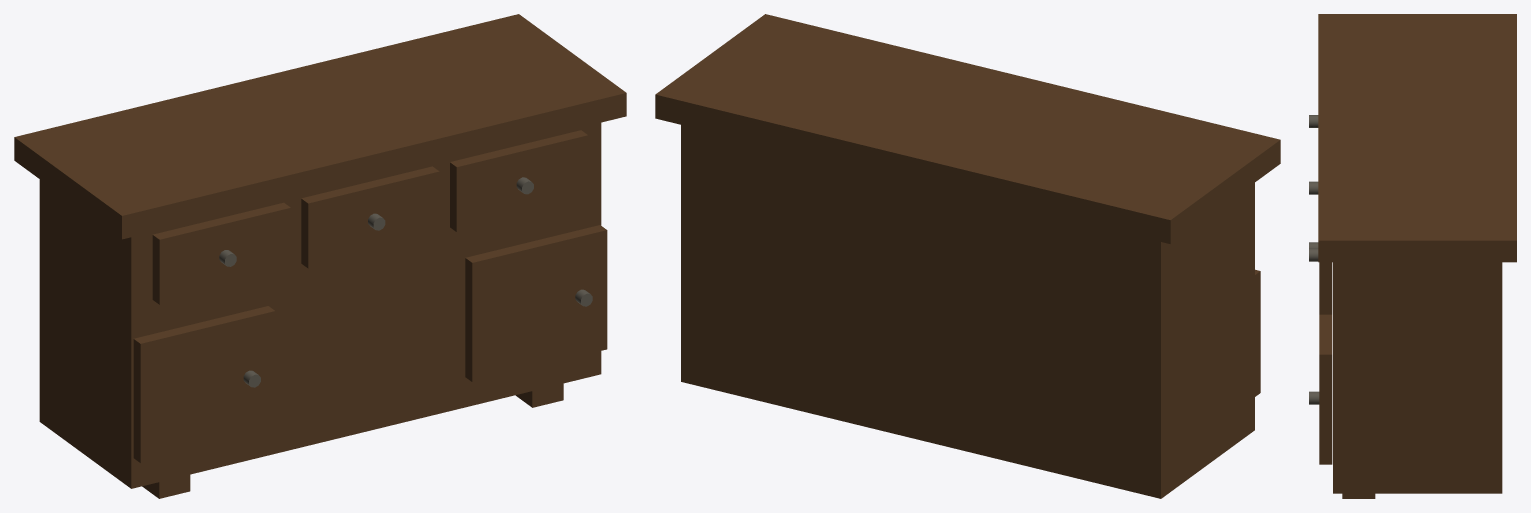
The model's file is sideboard_80s.glb.
3 renders of one model, left to right at view 1: azimuth 30°, elevation 25°; view 2: azimuth 150°, elevation 25°; view 3: azimuth 270°, elevation 25°, orthographic. The views are drawn at different scales.
Parts seen in each view (by area): view 1: wood__carcass, wood__top, _MeshInstance3D_143, wood__lower_door, wood__drawer_front, _MeshInstance3D_139, _MeshInstance3D_141, wood__short_foot, _MeshInstance3D_145; view 2: wood__carcass, wood__top, wood__lower_door; view 3: wood__top, wood__carcass, _MeshInstance3D_143, _MeshInstance3D_141.
Part boxes in pixels (x1,y1,x2,y2): wood__carcass: (39, 122, 601, 488); wood__top: (14, 14, 626, 239); _MeshInstance3D_143: (465, 225, 607, 382); wood__lower_door: (133, 306, 275, 463); wood__drawer_front: (152, 202, 290, 304); _MeshInstance3D_139: (301, 166, 439, 268); _MeshInstance3D_141: (450, 130, 587, 232); wood__short_foot: (142, 474, 190, 498); _MeshInstance3D_145: (515, 383, 563, 407); wood__carcass: (681, 125, 1254, 498); wood__top: (655, 14, 1280, 243); wood__lower_door: (1255, 269, 1260, 396); wood__top: (1318, 14, 1516, 262); wood__carcass: (1333, 262, 1502, 493); _MeshInstance3D_143: (1319, 314, 1332, 464); _MeshInstance3D_141: (1319, 262, 1332, 314).
Size of the model in its own units: 1.46 by 0.8425 by 0.5655.
